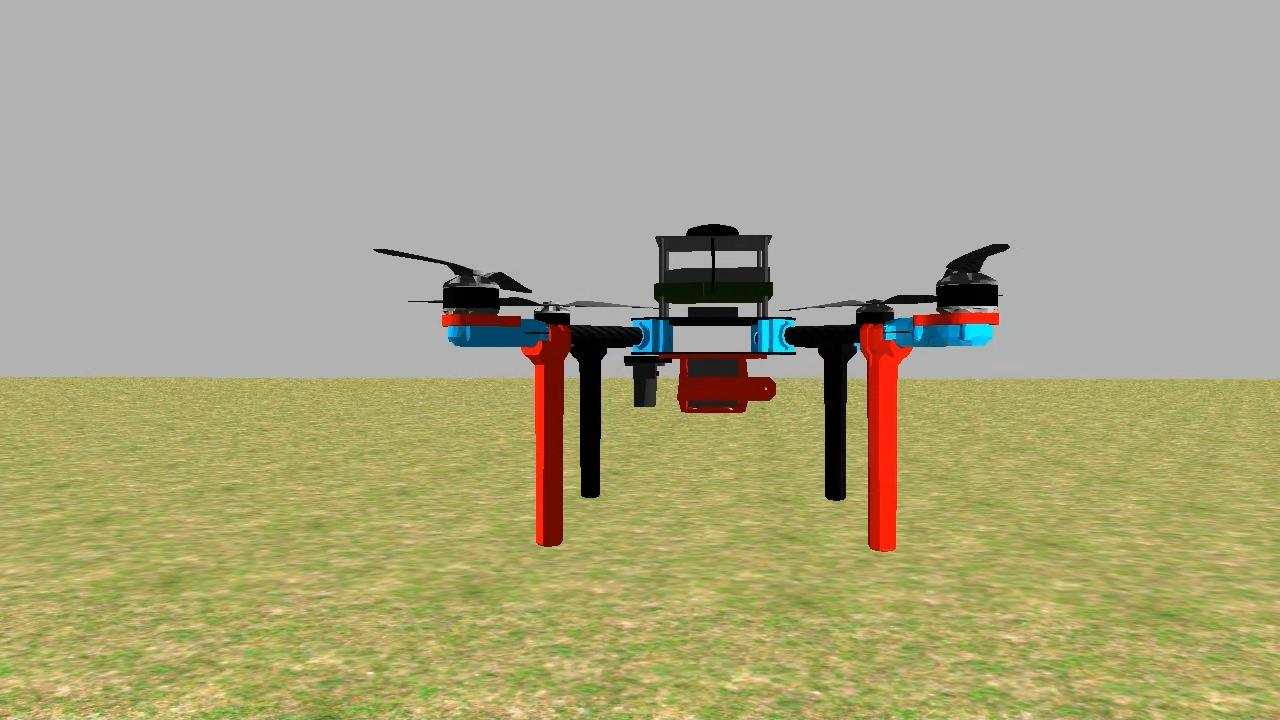UAV: (436, 212, 1014, 582)
